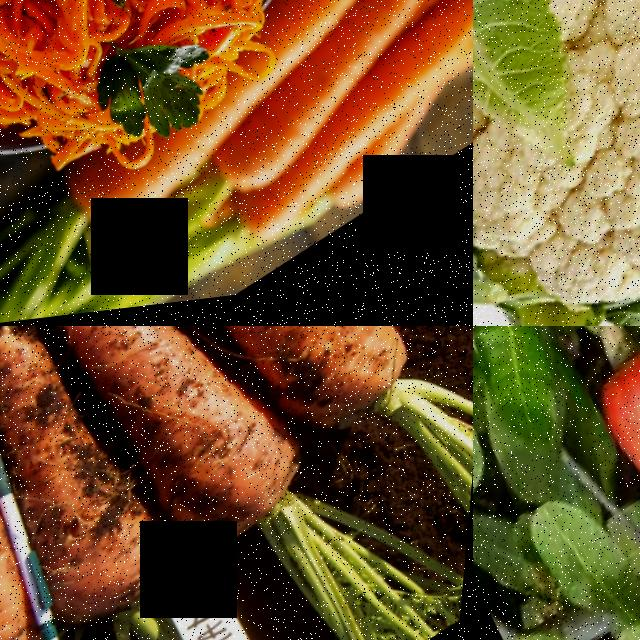carrot: (24, 326, 323, 591), (159, 0, 473, 250), (66, 19, 371, 241), (0, 326, 198, 628), (138, 326, 464, 492), (0, 398, 69, 640)
cashew: (575, 326, 640, 388)
cauliflower: (473, 0, 640, 326)
